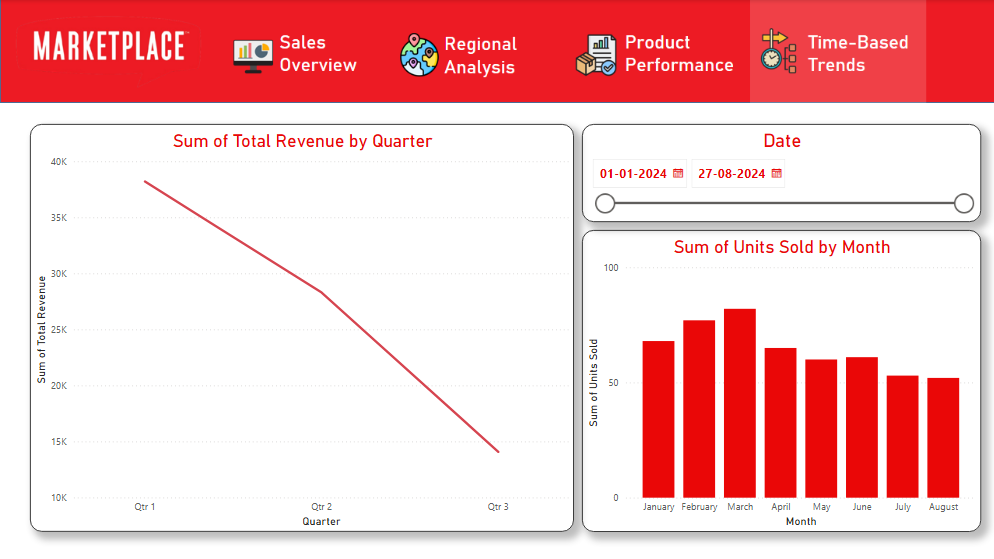

What the dashboard file says about the page in this screenshot:
{"tool":"powerbi","page":{"name":"Time-Based Trends","canvas":[1280,720],"ordinal":3},"visuals":[{"type":"shape","box":[963.9,0,227.5,133.7],"z":0},{"type":"actionButton","box":[280.2,0,197.9,133.7],"z":1000},{"type":"actionButton","box":[496.1,0,199.2,133.7],"z":2000},{"type":"actionButton","box":[727.4,0,227.5,133.7],"z":3000},{"type":"actionButton","box":[963.9,0,227.5,133.7],"z":4000},{"type":"lineChart","fields":{"Y":["Sum(Online Sales Data.Total Revenue)"],"Category":["Online Sales Data.Date.Variation.Date Hierarchy.Quarter"]},"box":[38.6,159.4,699.1,524.3],"z":5000},{"type":"columnChart","fields":{"Category":["Online Sales Data.Date.Variation.Date Hierarchy.Month"],"Y":["Sum(Online Sales Data.Units Sold)"]},"box":[748,295.6,512.8,388.1],"z":6000},{"type":"slicer","title":"Date","fields":{"Values":["Online Sales Data.Date"]},"box":[748,159.4,512.8,125.9],"z":7000}]}

Visuals, with their boxes in screenshot pixels (x1, y1, x2, y2), scaled from the page's 1280x720 canvas onto the 994x559 screenshot:
shape: (749, 0, 925, 104)
actionButton: (218, 0, 371, 104)
actionButton: (385, 0, 540, 104)
actionButton: (565, 0, 742, 104)
actionButton: (749, 0, 925, 104)
lineChart - Sum(Online Sales Data.Total Revenue) x Online Sales Data.Date.Variation.Date Hierarchy.Quarter: (30, 124, 573, 531)
columnChart - Online Sales Data.Date.Variation.Date Hierarchy.Month x Sum(Online Sales Data.Units Sold): (581, 230, 979, 531)
"Date" slicer: (581, 124, 979, 222)
